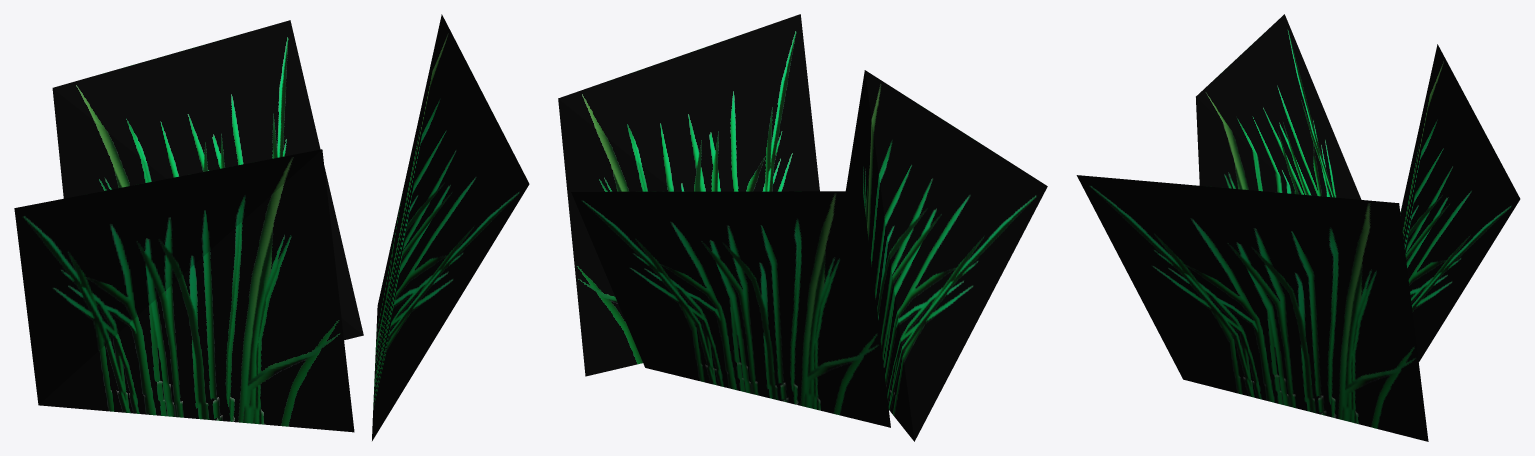
File: Grass.glb
3 views of the same model, side by side, from view 1: azimuth 30°, elevation 25°; view 2: azimuth 150°, elevation 25°; view 3: azimuth 270°, elevation 25° (orthographic). The views are drawn at different scales.
Visible parts, largest first — view 1: Simple_Grass; view 2: Simple_Grass; view 3: Simple_Grass.
Part boxes in pixels (x1,y1,x2,y2): Simple_Grass: [14, 14, 529, 440]; Simple_Grass: [558, 14, 1047, 441]; Simple_Grass: [1076, 14, 1520, 441].
Size of the model in its own units: 0.8282 by 0.4793 by 0.7292.
1 material, 1 textured.
